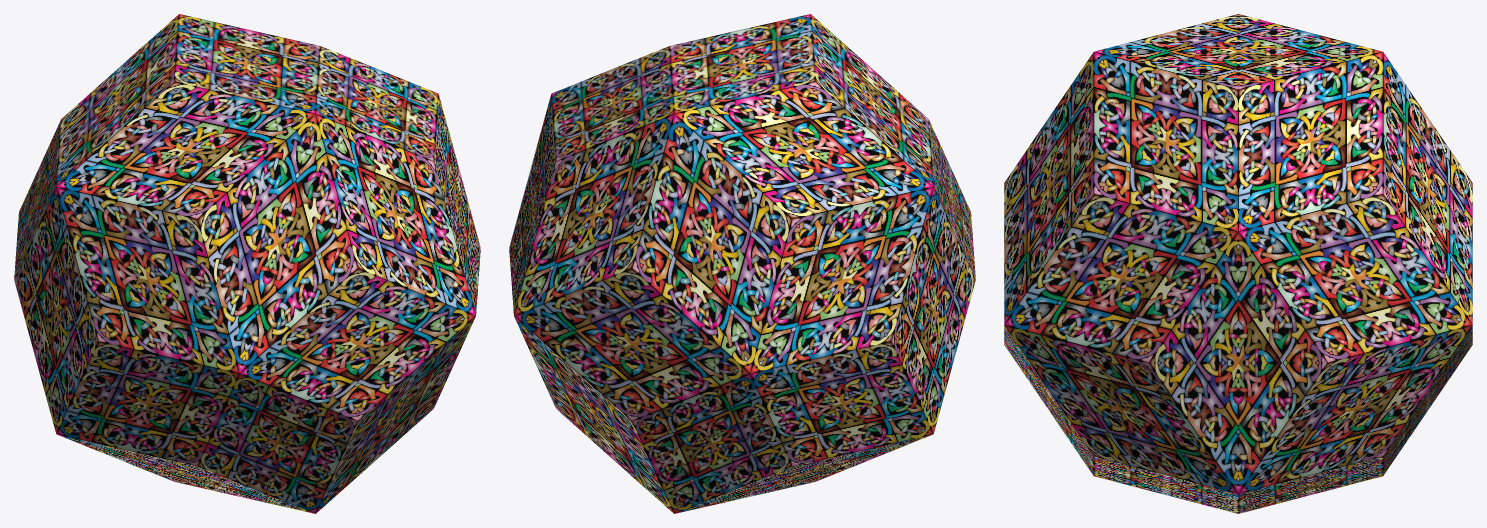
Rendered from 33RhombicTriacontahedron.obj.
The picture shows the model from 3 angles, left to right: view 1: azimuth 30°, elevation 25°; view 2: azimuth 150°, elevation 25°; view 3: azimuth 270°, elevation 25°; orthographic projection. The views are drawn at different scales.
Bounding box in the file's own units: 2.93 × 2.93 × 2.93.
1 material, 1 textured.
